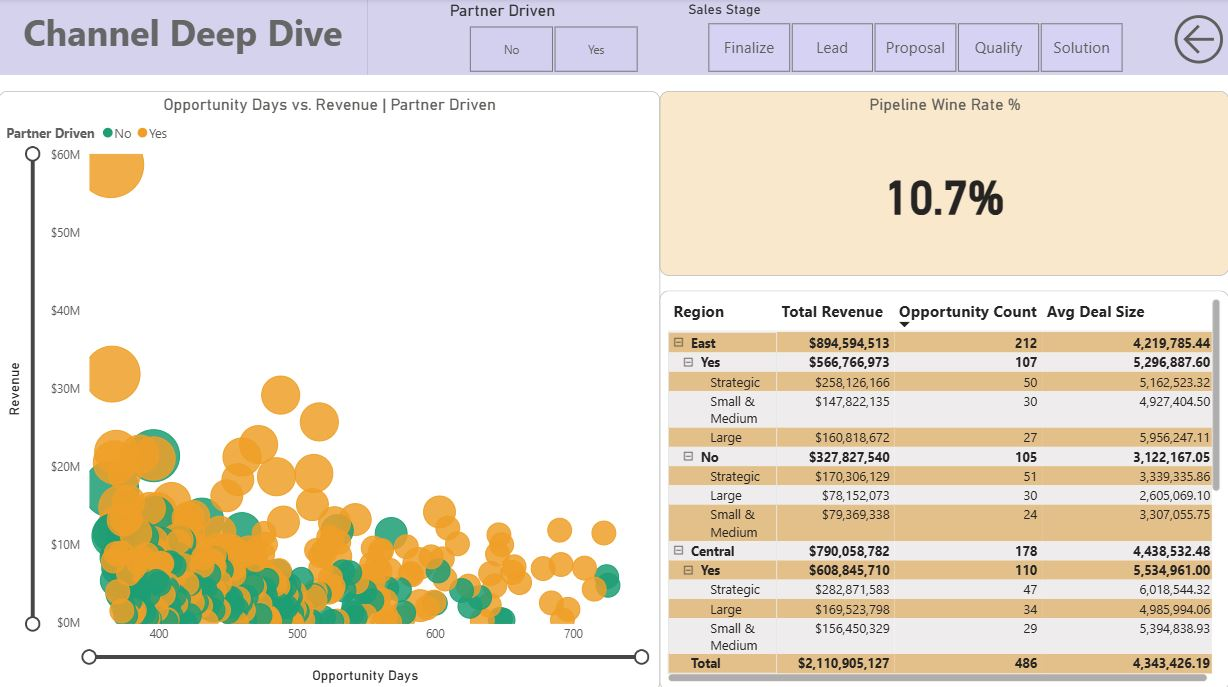

This screenshot's page, from the dashboard's own definition file:
{"tool":"powerbi","page":{"name":"Channel Deep Dive","canvas":[1280,720],"ordinal":1},"visuals":[{"type":"scatterChart","title":"Opportunity Days vs. Revenue | Partner Driven","fields":{"X":["Fact.Opportunity Days"],"Series":["Partner.Partner Driven"],"Y":["Fact.Total Revenue"],"Size":["Fact.Opportunity Count"]},"box":[0,96,688,624],"z":0},{"type":"pivotTable","fields":{"Rows":["Account.Region","Partner.Partner Driven","Account.Segment"],"Values":["Fact.Total Revenue","Fact.Opportunity Count","Fact.Avg Deal Size"]},"box":[688,304,592,416],"z":1000},{"type":"card","title":"Pipeline Wine Rate %","fields":{"Values":["Fact.Pipeline Win Rate %"]},"box":[688,96,592,192],"z":2000},{"type":"shape","box":[384,0,896,80],"z":7000},{"type":"slicer","title":"Sales Stage","fields":{"Values":["Sales Stage.Sales Stage"]},"box":[712,2.7,480,80],"z":7250},{"type":"slicer","title":"Partner Driven","fields":{"Values":["Fact.Channel"]},"box":[464,2.7,224,80],"z":7375},{"type":"actionButton","box":[1216,10.7,64,64],"z":7500},{"type":"textbox","box":[0,0,384,80],"z":8000}]}

Visuals, with their boxes in screenshot pixels (x1, y1, x2, y2), scaled from the page's 1280x720 canvas onto the 1228x687 screenshot:
"Opportunity Days vs. Revenue | Partner Driven" scatterChart: (0,92,660,686)
pivotTable - Account.Region x Partner.Partner Driven: (660,290,1227,686)
"Pipeline Wine Rate %" card: (660,92,1227,275)
shape: (368,0,1227,76)
"Sales Stage" slicer: (683,3,1144,79)
"Partner Driven" slicer: (445,3,660,79)
actionButton: (1167,10,1227,71)
textbox: (0,0,368,76)
